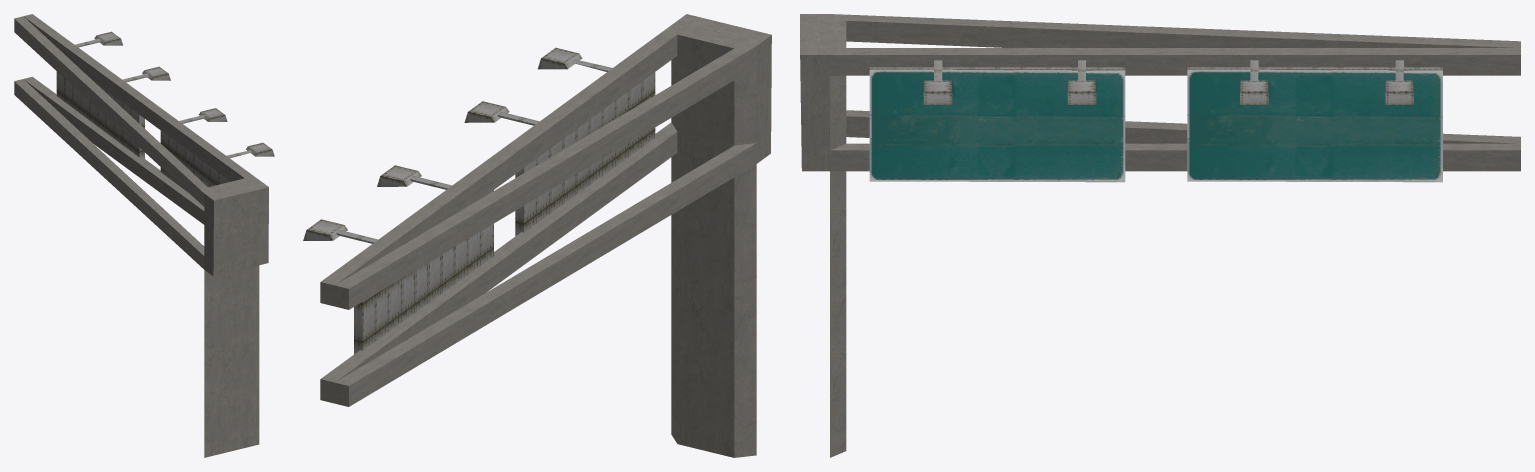
File: lamotsig2_la.obj
The picture shows the model from 3 angles, left to right: view 1: azimuth 30°, elevation 25°; view 2: azimuth 150°, elevation 25°; view 3: azimuth 270°, elevation 25°; orthographic projection. The views are drawn at different scales.
Parts seen in each view (by area): view 1: lamotsig2_LA; view 2: lamotsig2_LA; view 3: lamotsig2_LA.
Part boxes in pixels (x1,y1,x2,y2): lamotsig2_LA: [14, 14, 274, 457]; lamotsig2_LA: [303, 14, 771, 457]; lamotsig2_LA: [800, 14, 1520, 457].
Bounding box in the file's own units: 3.9 × 9.74 × 15.78.
